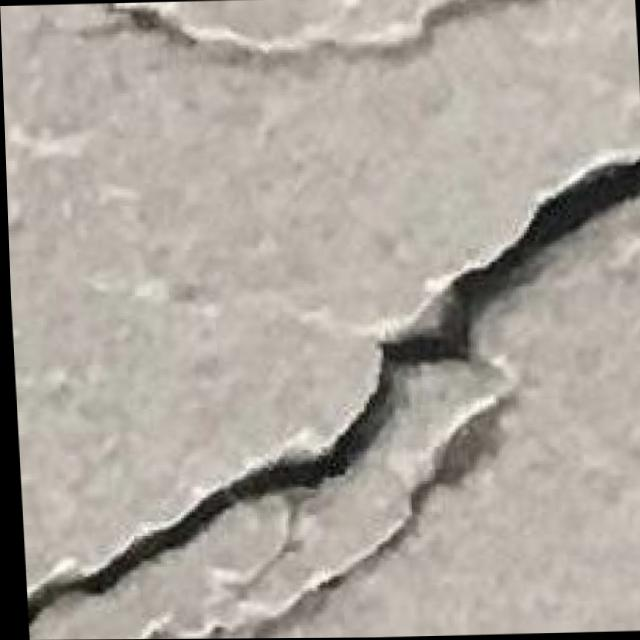Crack: (21, 101, 640, 640)
